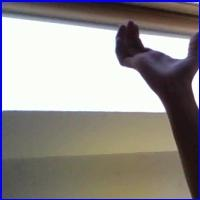space: (101, 16, 198, 92)
